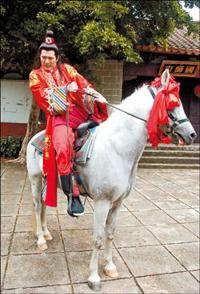person: (30, 26, 110, 217)
